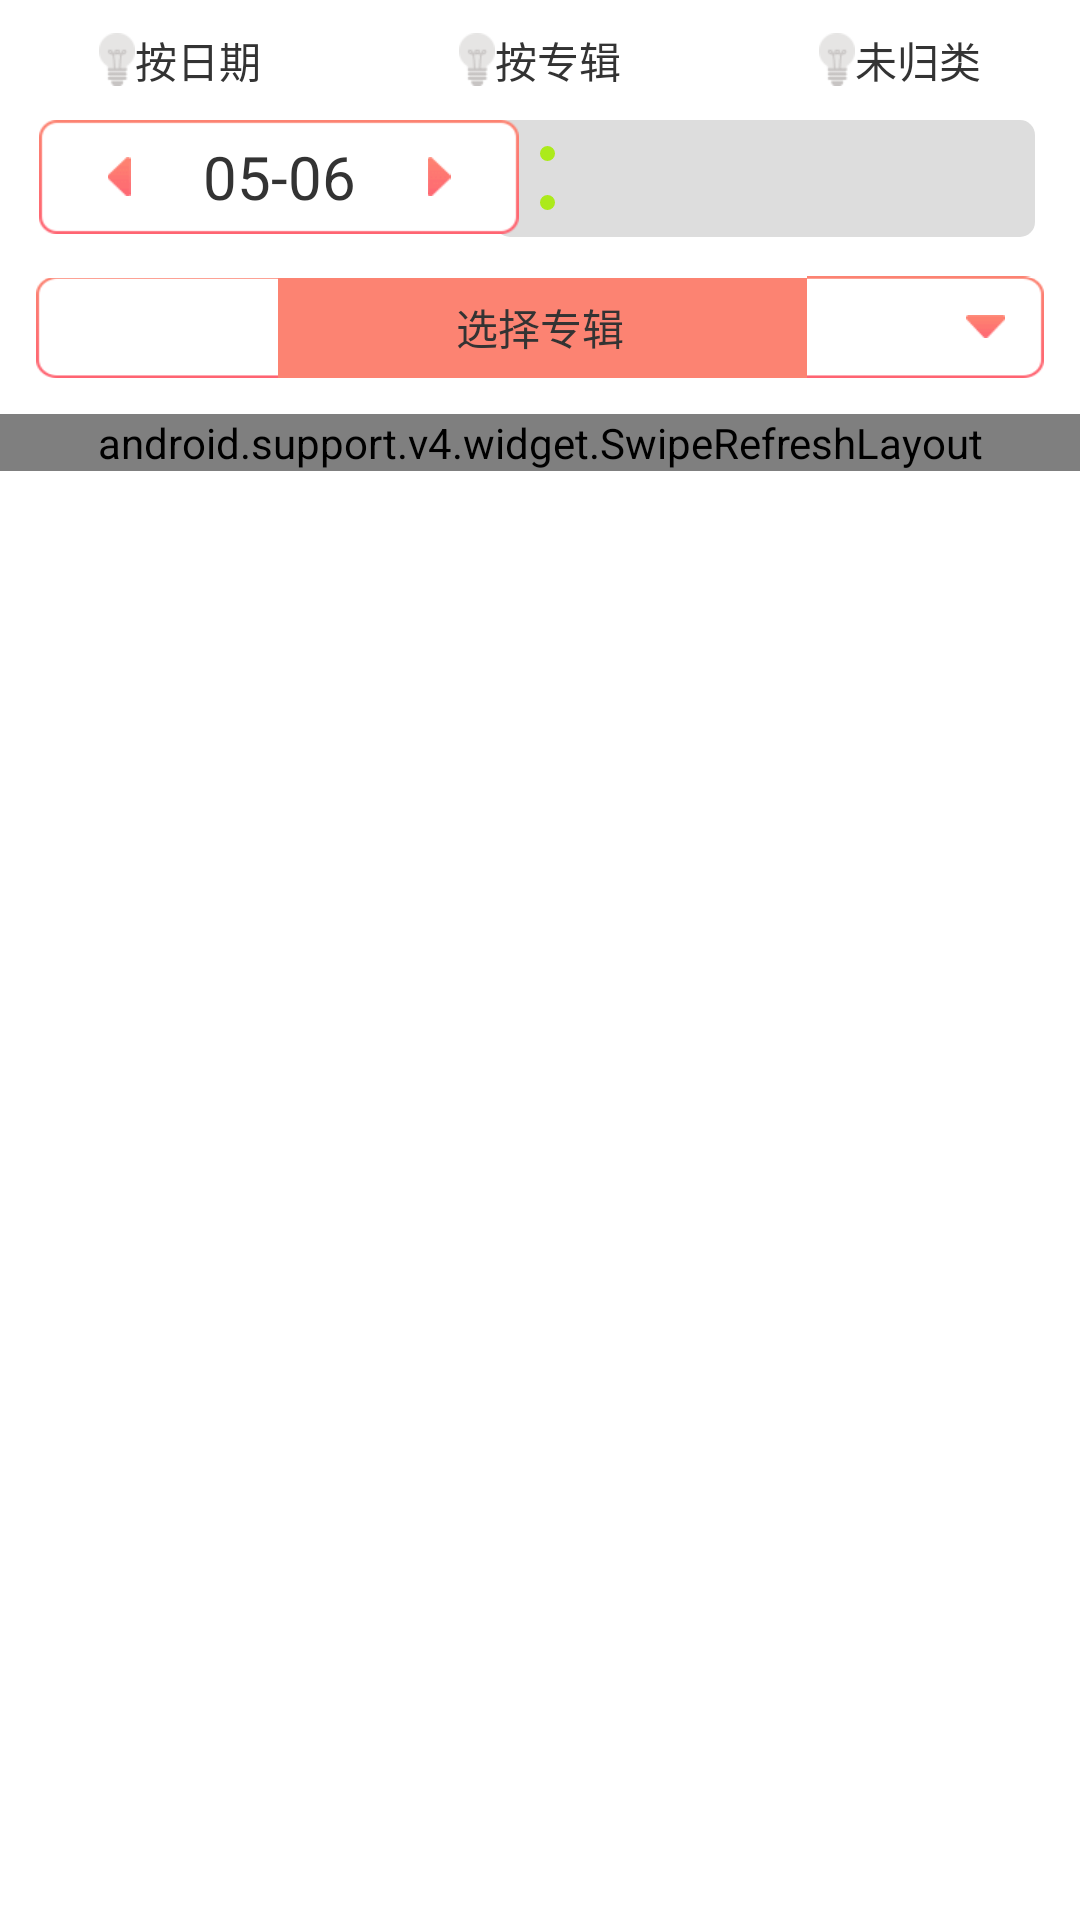

Icon bounding boxes for this 1080px x 1920px phone screenshot, format (x1, y1, x2, y2):
left: (108, 157, 131, 196)
right: (428, 157, 451, 196)
